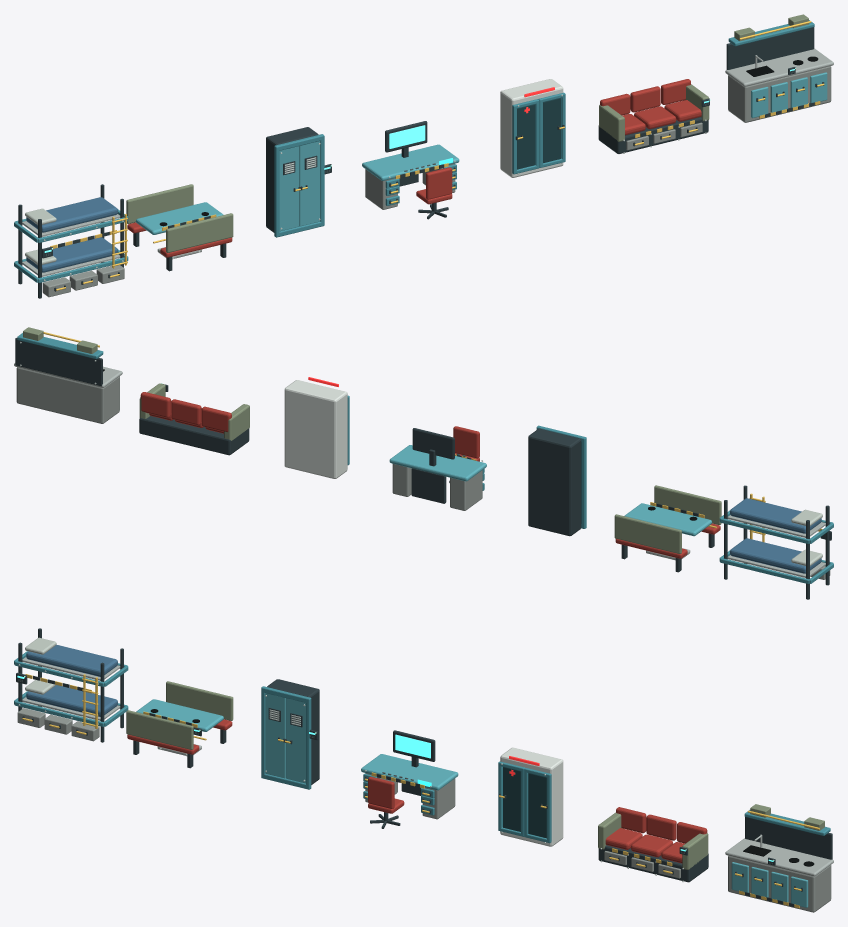
Rendered from submarine_postapo_futuristic_furniture_pack.glb.
The picture shows the model from 3 angles, top to bottom: view 1: azimuth 30°, elevation 25°; view 2: azimuth 150°, elevation 25°; view 3: azimuth 330°, elevation 25°; orthographic projection.
Visible parts, largest first — view 1: MEDCAB_Interior_Shadow, MEDCAB_White_Carcass, GALLEY_Back_Splash_Panel, GALLEY_Lower_Counter_Body, WORKSTATION_Main_Desk_Top, MESS_Front_Bench_Back_Panel, GALLEY_Countertop_Steel, LOCKER_Right_Animated_Door, LOCKER_Left_Animated_Door, MESS_Back_Bench_Back_Panel, BUNK_Upper_Mattress_Faded_Blue, BUNK_Lower_Mattress_Faded_Blue (+15 smaller); view 2: MEDCAB_White_Carcass, LOCKER_Rear_Carcass, GALLEY_Lower_Counter_Body, GALLEY_Back_Splash_Panel, LOUNGE_Metal_Base_Box, MESS_Back_Bench_Back_Panel, WORKSTATION_Main_Desk_Top, BUNK_Lower_Mattress_Faded_Blue, BUNK_Upper_Mattress_Faded_Blue, MESS_Front_Bench_Back_Panel, MESS_Tabletop_Rounded_Metal, WORKSTATION_Center_Knee_Back (+12 smaller); view 3: MEDCAB_Interior_Shadow, MEDCAB_White_Carcass, GALLEY_Back_Splash_Panel, GALLEY_Lower_Counter_Body, WORKSTATION_Main_Desk_Top, GALLEY_Countertop_Steel, MESS_Front_Bench_Back_Panel, LOCKER_Left_Animated_Door, BUNK_Upper_Mattress_Faded_Blue, MESS_Back_Bench_Back_Panel, LOCKER_Right_Animated_Door, BUNK_Lower_Mattress_Faded_Blue (+14 smaller).
Part boxes in pixels (x1,y1,x2,y2): MEDCAB_Interior_Shadow: (517,98,560,169); MEDCAB_White_Carcass: (500,79,563,177); GALLEY_Back_Splash_Panel: (726,27,814,69); GALLEY_Lower_Counter_Body: (728,66,831,122); WORKSTATION_Main_Desk_Top: (362,144,459,180); MESS_Front_Bench_Back_Panel: (166,213,233,252); GALLEY_Countertop_Steel: (725,48,833,86); LOCKER_Right_Animated_Door: (299,141,320,226); LOCKER_Left_Animated_Door: (279,146,299,231); MESS_Back_Bench_Back_Panel: (126,184,193,223); BUNK_Upper_Mattress_Faded_Blue: (26,197,117,232); BUNK_Lower_Mattress_Faded_Blue: (26,237,117,272); MEDCAB_White_Carcass: (284,380,347,478); LOCKER_Rear_Carcass: (528,428,581,536); GALLEY_Lower_Counter_Body: (16,367,119,423); GALLEY_Back_Splash_Panel: (15,338,102,386); LOUNGE_Metal_Base_Box: (139,416,249,455); MESS_Back_Bench_Back_Panel: (614,514,681,553); WORKSTATION_Main_Desk_Top: (389,445,486,481); BUNK_Lower_Mattress_Faded_Blue: (730,538,821,573); BUNK_Upper_Mattress_Faded_Blue: (730,498,821,533); MESS_Front_Bench_Back_Panel: (654,485,721,524); MESS_Tabletop_Rounded_Metal: (624,503,712,536); WORKSTATION_Center_Knee_Back: (411,468,446,503); MEDCAB_Interior_Shadow: (503,767,546,838); MEDCAB_White_Carcass: (500,747,563,846); GALLEY_Back_Splash_Panel: (745,817,832,859); GALLEY_Lower_Counter_Body: (728,855,831,912); WORKSTATION_Main_Desk_Top: (361,754,458,790); GALLEY_Countertop_Steel: (725,838,833,876); MESS_Front_Bench_Back_Panel: (126,710,193,749); LOCKER_Left_Animated_Door: (265,693,286,778); BUNK_Upper_Mattress_Faded_Blue: (26,644,117,676); MESS_Back_Bench_Back_Panel: (166,681,233,720); LOCKER_Right_Animated_Door: (286,698,305,783); BUNK_Lower_Mattress_Faded_Blue: (26,685,117,716).
Bounding box in the file's own units: 18.4 × 2 × 2.1.
